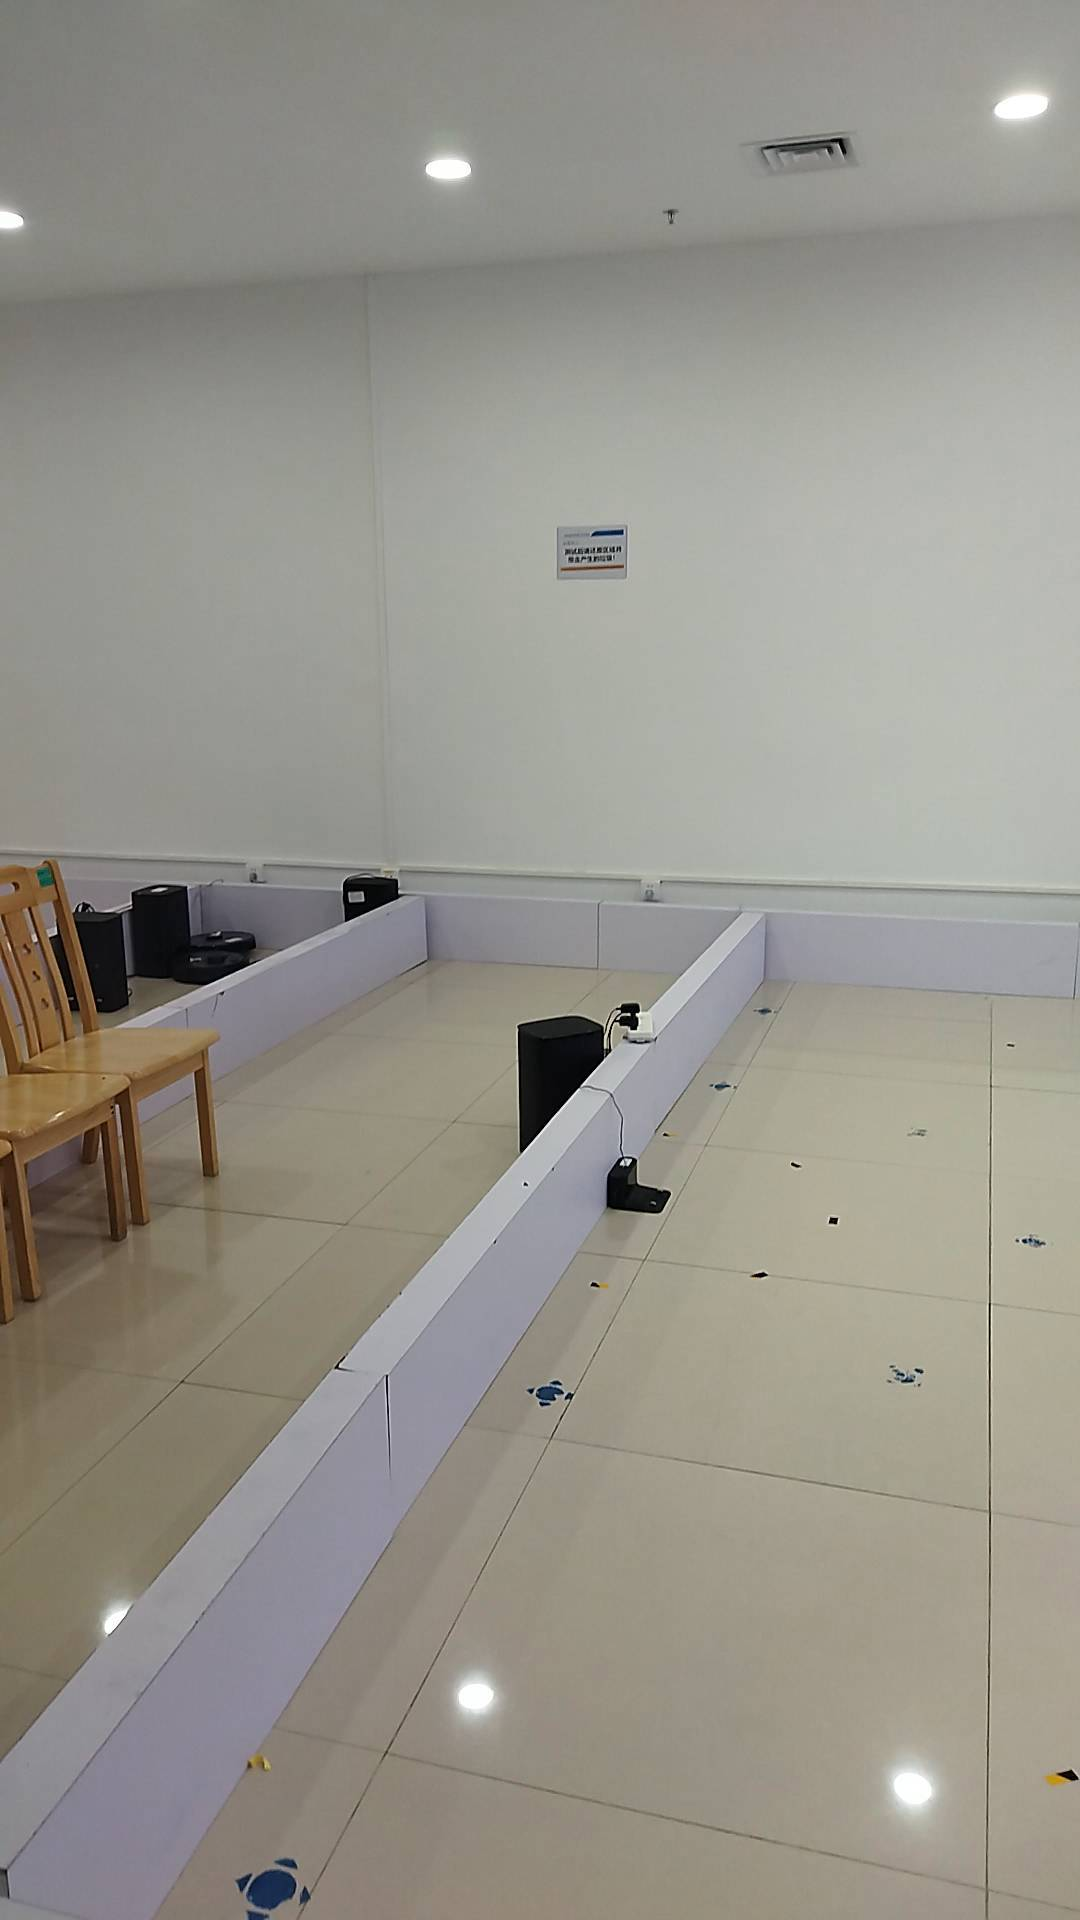dust collecting barrel: (514, 1013, 607, 1147), (66, 911, 131, 1011), (127, 884, 193, 977)
recharge seat: (609, 1156, 673, 1213)
